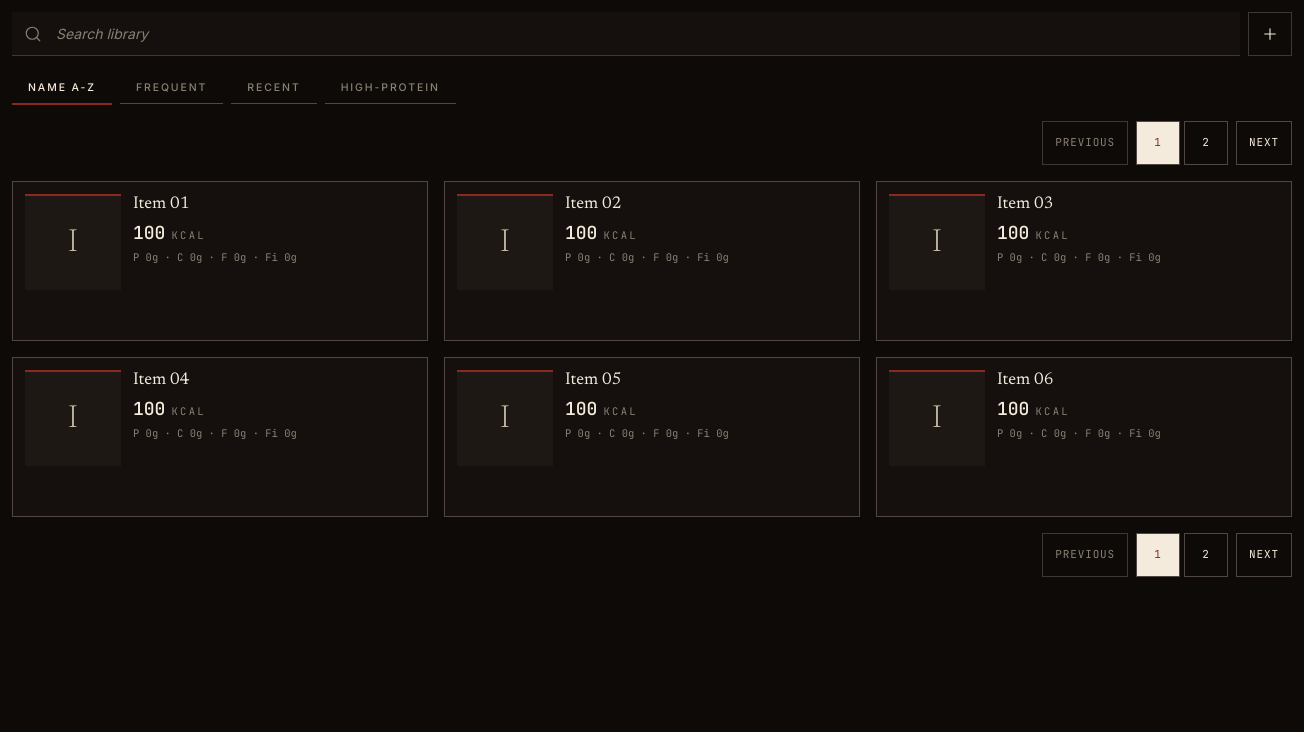
<LibraryList /> › pagination (6 items per page) › Next button advances to page 2 showing the remaining items
This screenshot has width=1304, height=732.
Click the button with test id "library-list-pagination-next". click: (1264, 554)
box: [1236,532,1292,576]
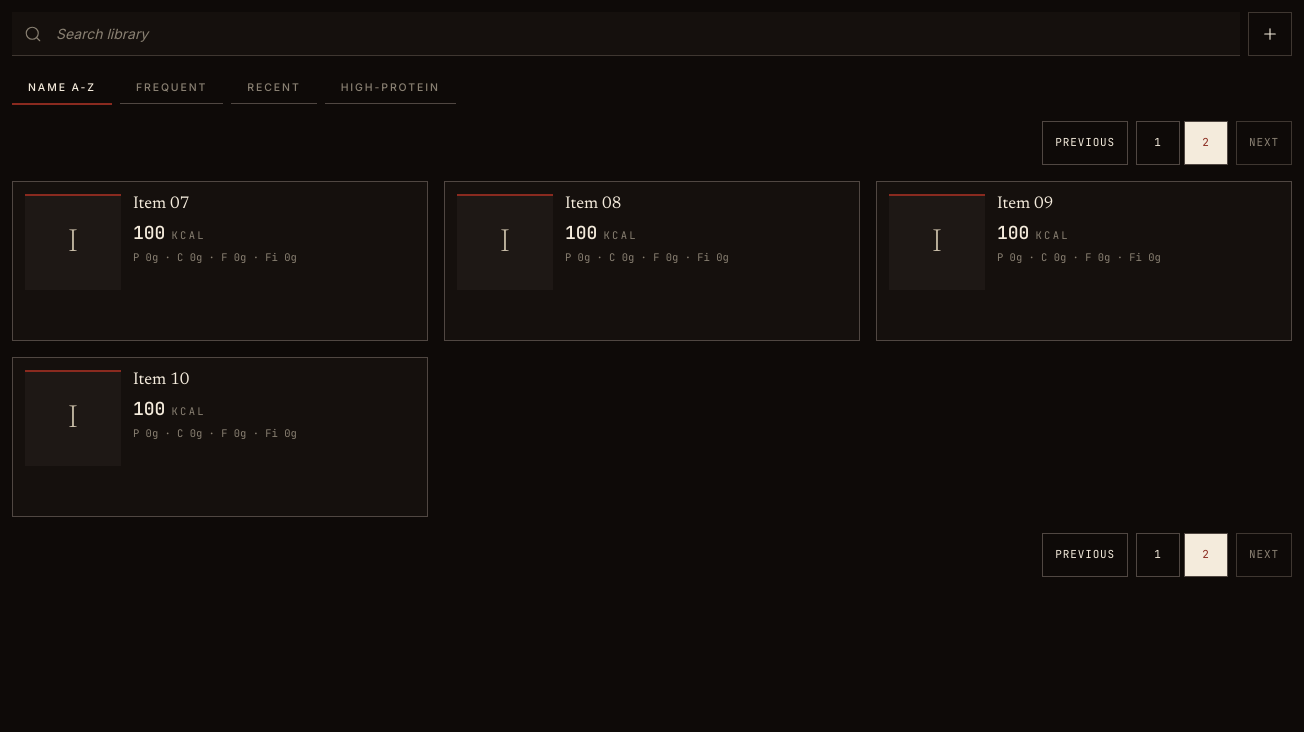
Expected: the option with test id "library-card-id-7" is shown, [12,180,428,340]
Expected: the option with test id "library-card-id-1" is gone
